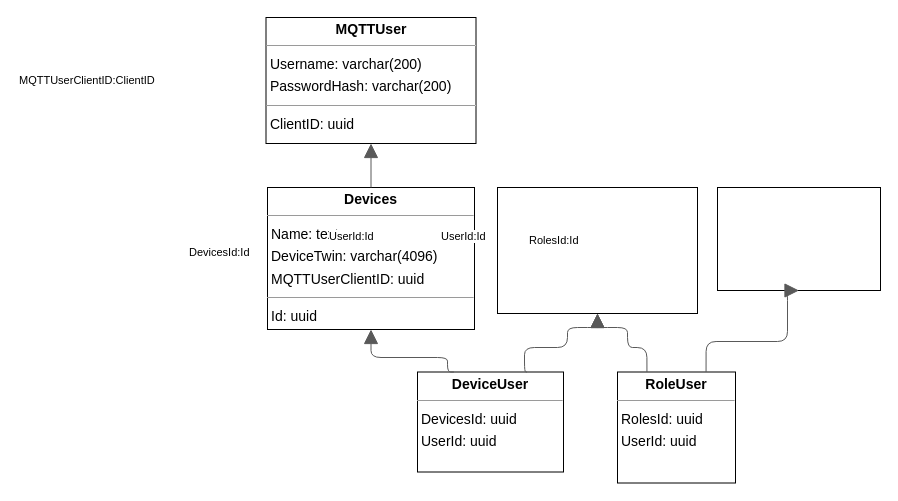
This 898x501 diagram has some shape labels left out. The centre of each missing label's shape, as x and y in pixels:
"Roles Key: varchar(200) Id: uuid" goes at point (798, 238).
"Users Email: varchar(200) PasswordHash: varchar(200) Id: uuid" goes at point (597, 250).
